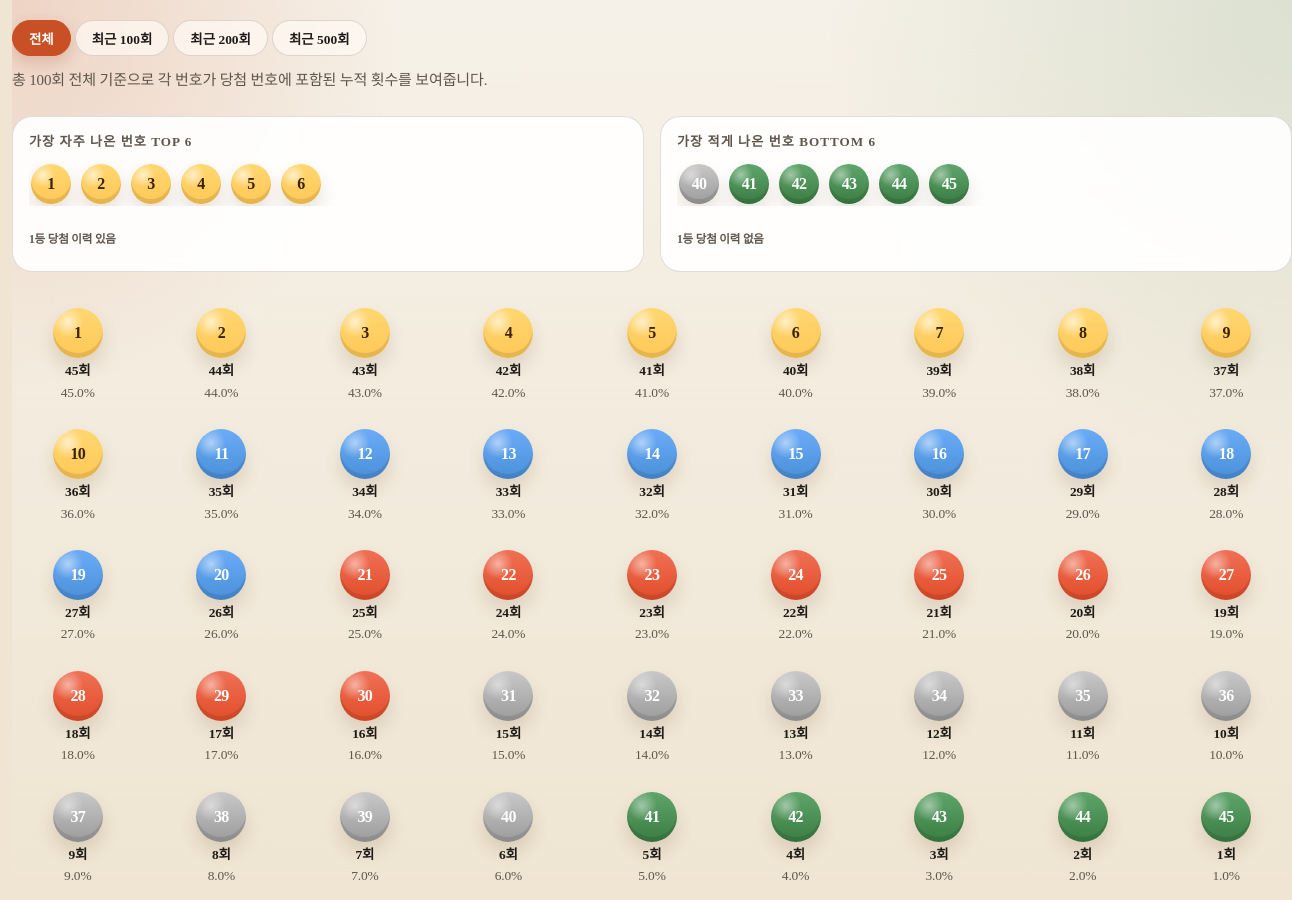
it: frequency 필터 › 필터 조회 실패 시 오류와 재시도를 표시하고 기존 값을 유지한다
The width and height of the screenshot is (1292, 900).
Click the button "최근 100회".
click(122, 38)  # box [75,20,169,56]
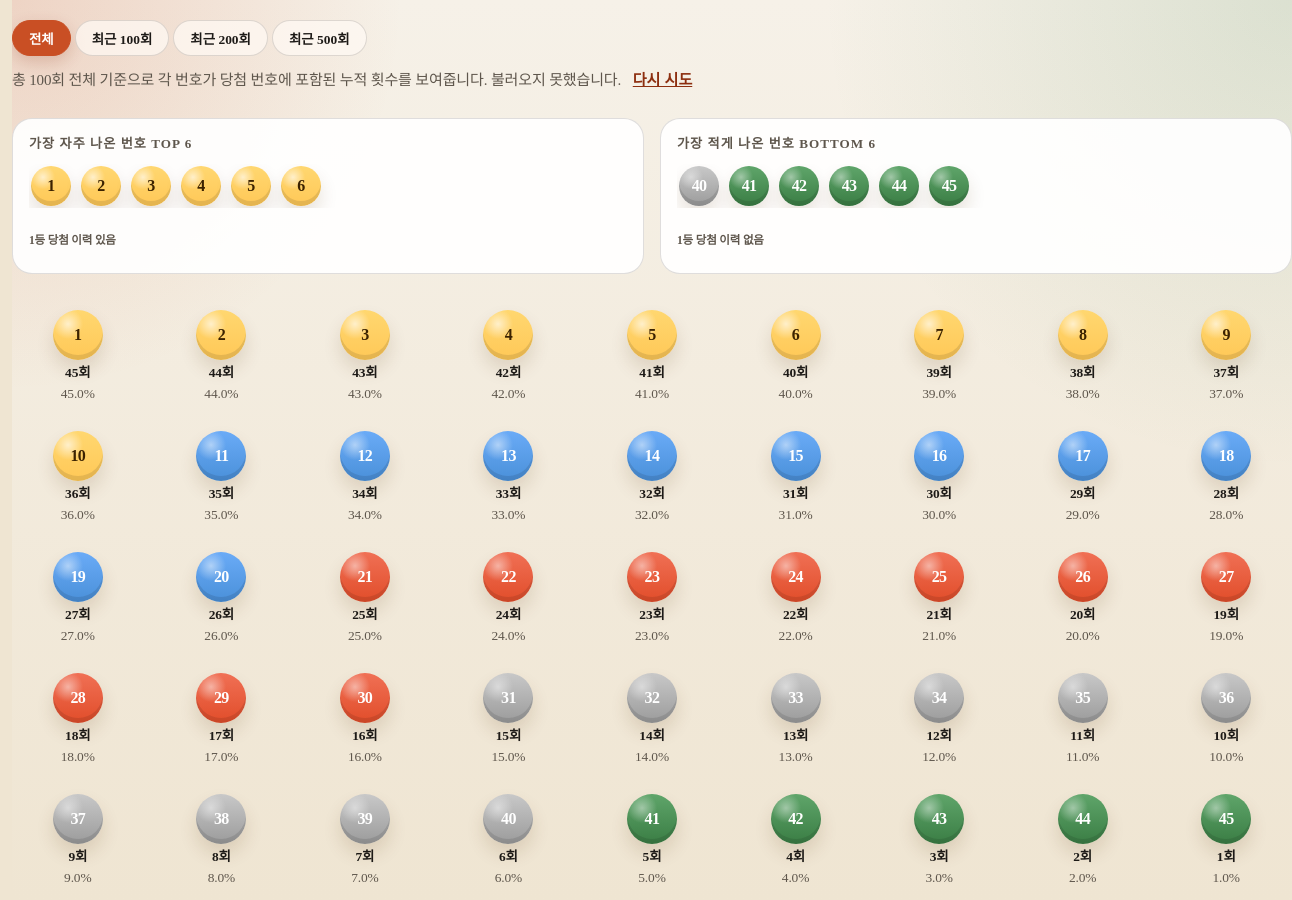
Expected: the text "1등 당첨 이력 있음" is shown, [29,234,116,246]
Expected: the text "불러오지 못했습니다. 다시 시도" is shown, [487,72,692,88]
